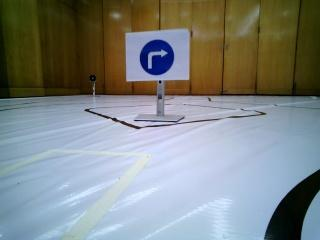right: (127, 33, 183, 79)
